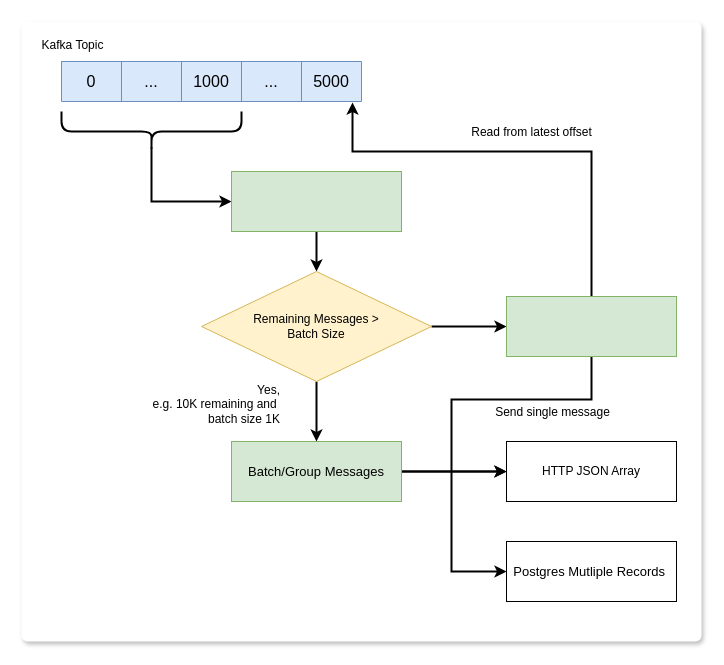
This 724x665 diagram has some shape labels left out. The centre of each missing label's shape, as x and y in pixels:
Process Individual Messages: the point at 591,326
Read Topic & Messages: the point at 316,201
